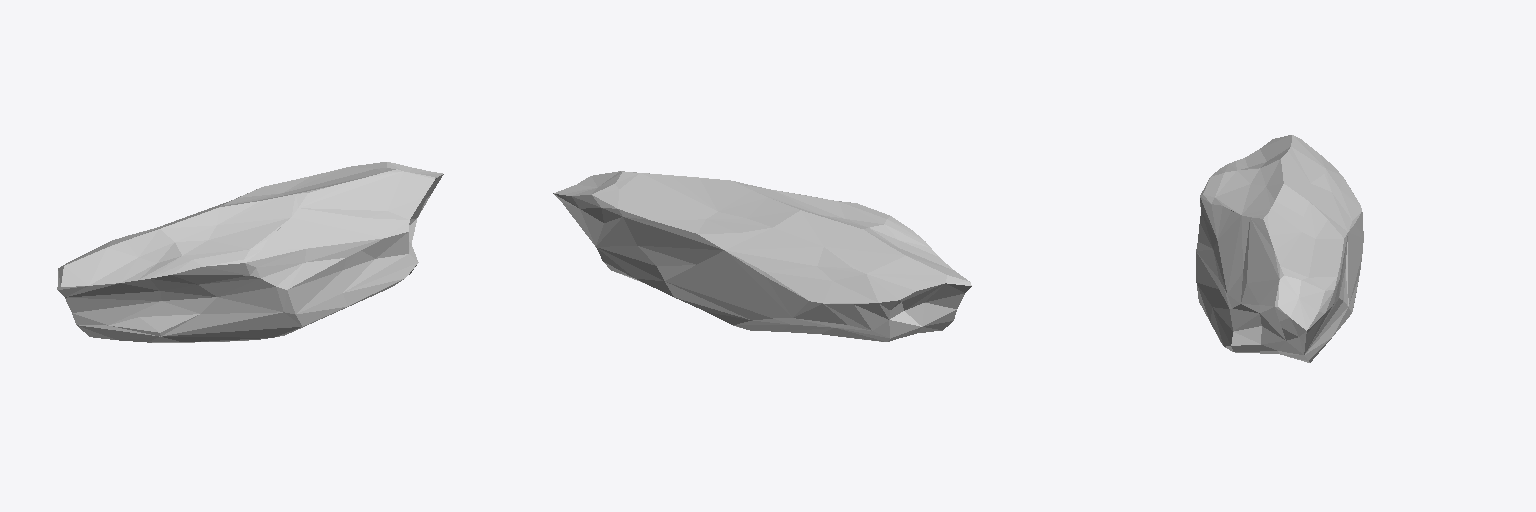
Rendered from Rock_V3.obj.
3 renders of one model, left to right at view 1: azimuth 30°, elevation 25°; view 2: azimuth 150°, elevation 25°; view 3: azimuth 270°, elevation 25°, orthographic.
Parts seen in each view (by area): view 1: Cube_Cube.001; view 2: Cube_Cube.001; view 3: Cube_Cube.001.
Boxes of the visible parts, <box> form: Cube_Cube.001: <box>57,162,443,342</box>; Cube_Cube.001: <box>553,171,971,341</box>; Cube_Cube.001: <box>1196,135,1363,362</box>.
Size of the model in its own units: 5.99 by 1.66 by 2.16.